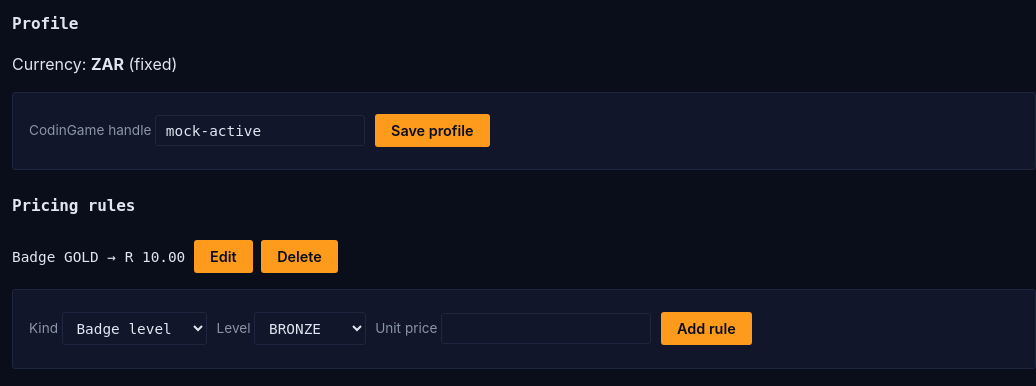
Test: AgreementPage — payer can edit and delete rules › Delete button removes the rule via deletePricingRule (after confirm)
Expected: the list item "Badge GOLD → R 10.00 Edit Delete" is shown, [12,240,338,273]
Click the button with aria-label "delete-r1": click(300, 256) [261,240,338,273]
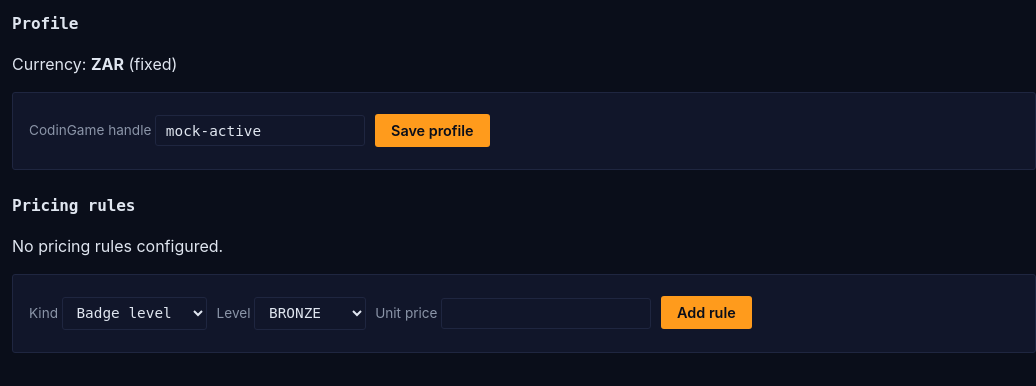
Now the list item "Badge GOLD" is gone
